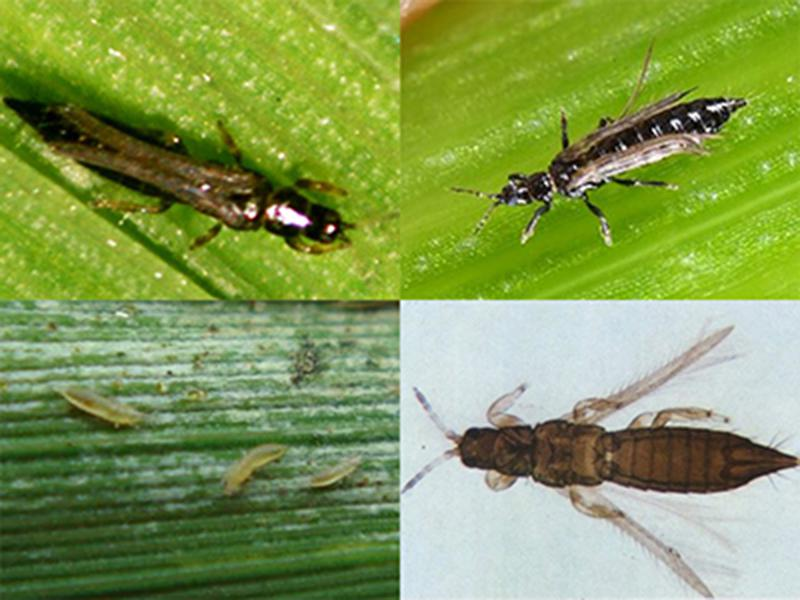pest: (4, 88, 347, 257), (477, 94, 749, 228), (442, 418, 800, 499), (58, 384, 142, 427), (220, 443, 294, 491), (307, 453, 361, 490)
